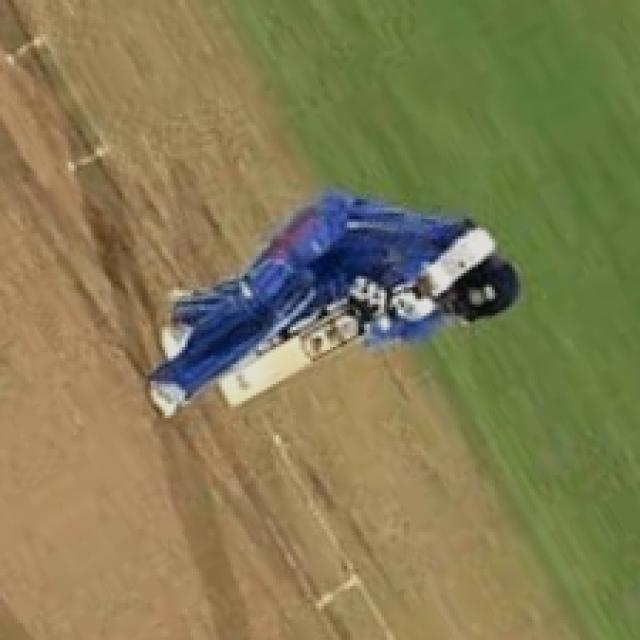bat: (209, 311, 376, 418)
toe: (215, 380, 230, 412)
